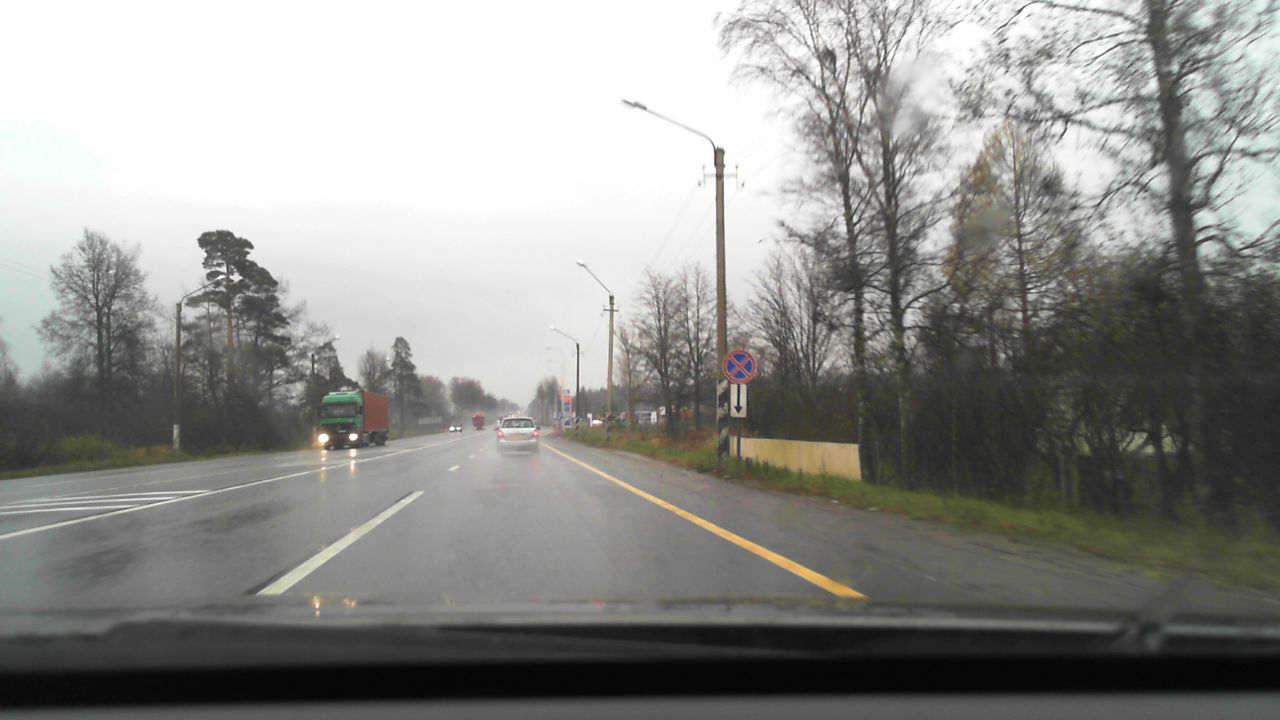No Parking: (721, 349, 755, 383)
